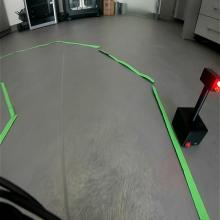red: (199, 67, 220, 93)
